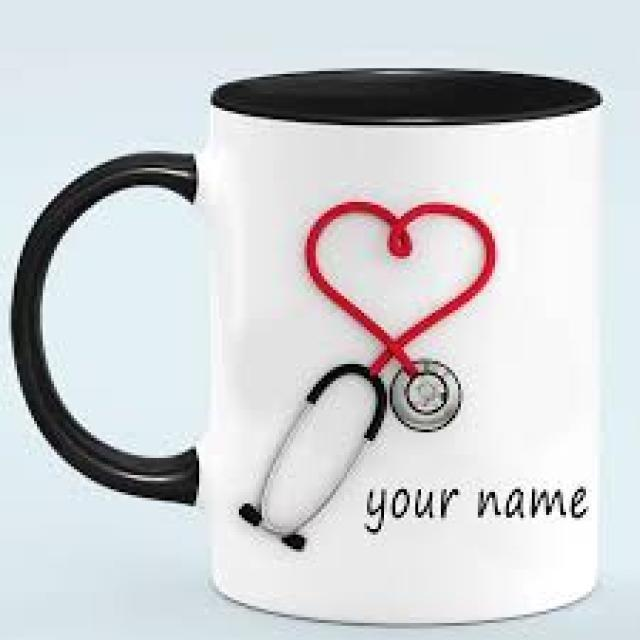taza: (12, 50, 620, 629)
